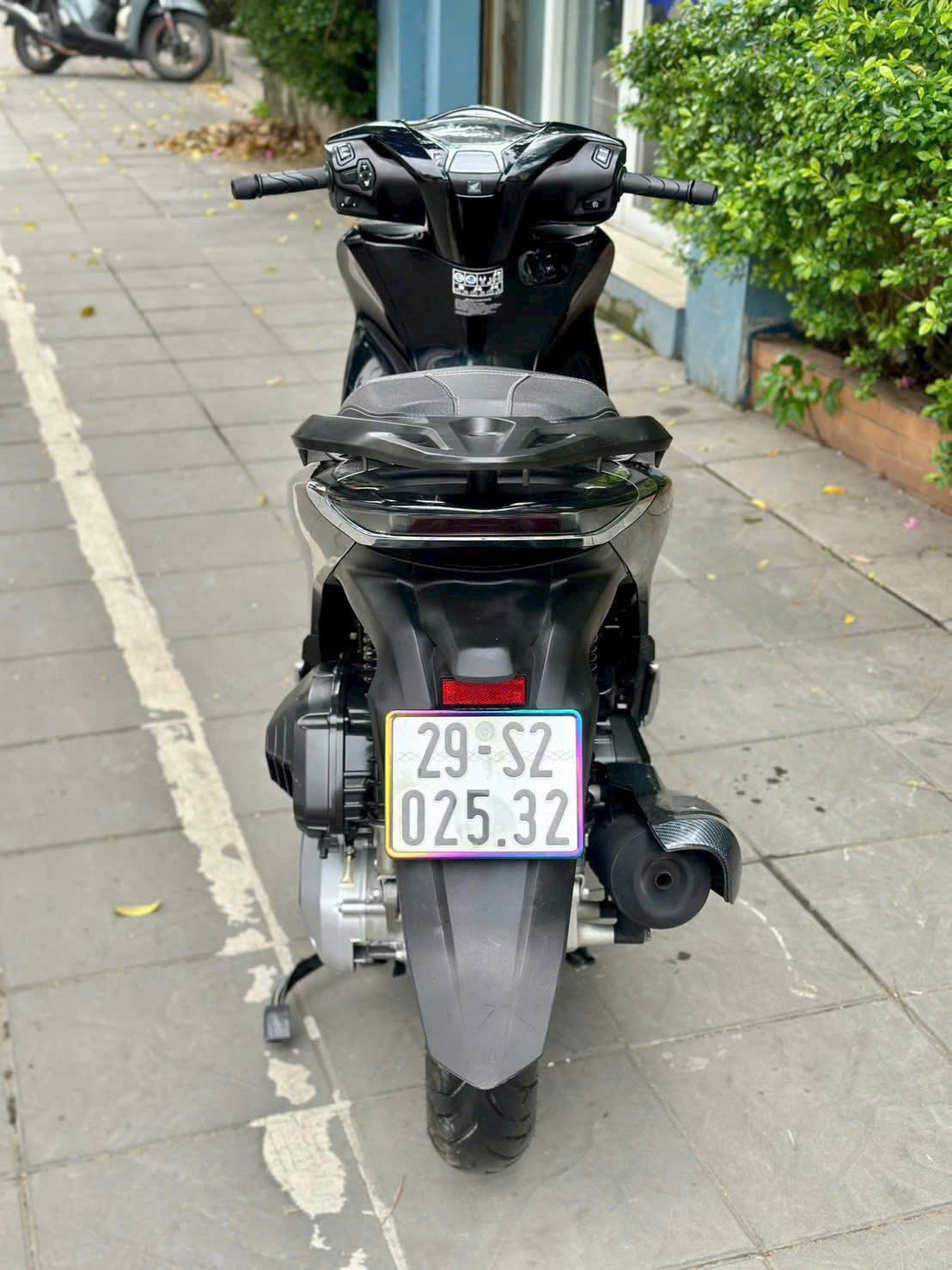Bien-so: (381, 707, 588, 861)
